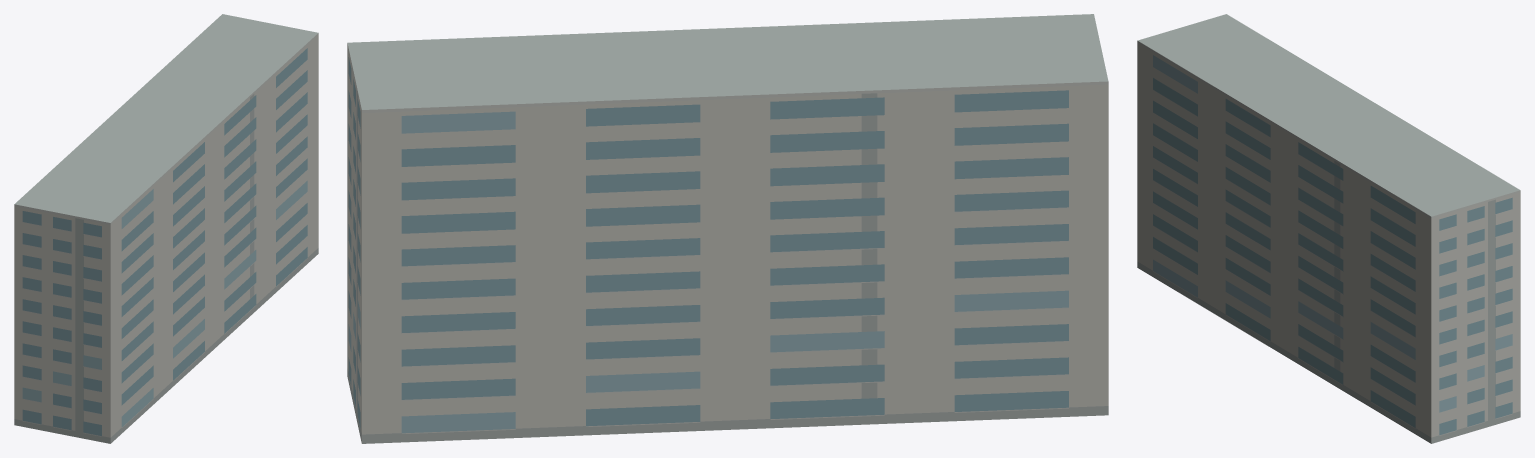
Rendered from residential-8fdd5277-4cff-4212-9dcc-ceef42384026.glb.
The picture shows the model from 3 angles, left to right: view 1: azimuth 30°, elevation 25°; view 2: azimuth 150°, elevation 25°; view 3: azimuth 270°, elevation 25°; orthographic projection. The views are drawn at different scales.
Parts seen in each view (by area): view 1: residential-8fdd5277-4cff-4212-9dcc-ceef42384026.tmp; view 2: residential-8fdd5277-4cff-4212-9dcc-ceef42384026.tmp; view 3: residential-8fdd5277-4cff-4212-9dcc-ceef42384026.tmp.
Part boxes in pixels (left/top/right/bottom): residential-8fdd5277-4cff-4212-9dcc-ceef42384026.tmp: left=14, top=14, right=318, bottom=443; residential-8fdd5277-4cff-4212-9dcc-ceef42384026.tmp: left=347, top=14, right=1108, bottom=443; residential-8fdd5277-4cff-4212-9dcc-ceef42384026.tmp: left=1137, top=14, right=1520, bottom=443.
Bounding box in the file's own units: 53.6 × 28 × 42.8.
